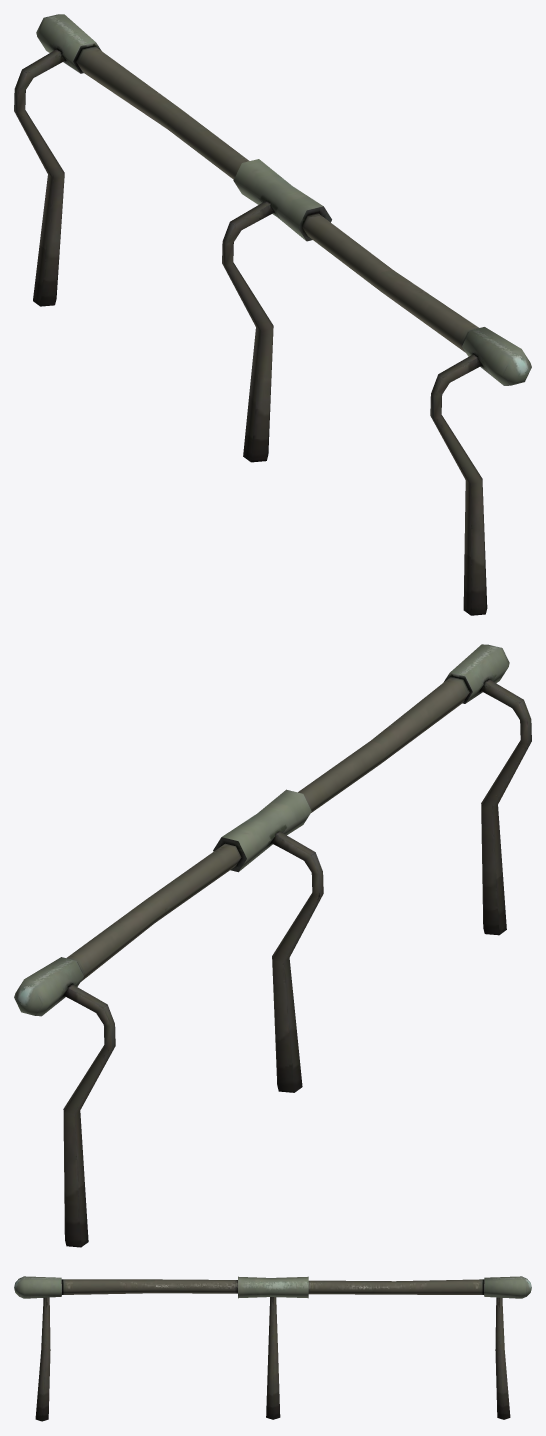
The picture shows the model from 3 angles, top to bottom: view 1: azimuth 30°, elevation 25°; view 2: azimuth 150°, elevation 25°; view 3: azimuth 270°, elevation 25°; orthographic projection. The views are drawn at different scales.
Parts seen in each view (by area): view 1: body0_model0_lod0_mesh0; view 2: body0_model0_lod0_mesh0; view 3: body0_model0_lod0_mesh0.
Part boxes in pixels (x1,y1,x2,y2): body0_model0_lod0_mesh0: (14,14,531,615); body0_model0_lod0_mesh0: (14,644,531,1247); body0_model0_lod0_mesh0: (14,1276,531,1421).
Size of the model in its own units: 13.06 by 42.62 by 138.
1 material, 1 textured.
